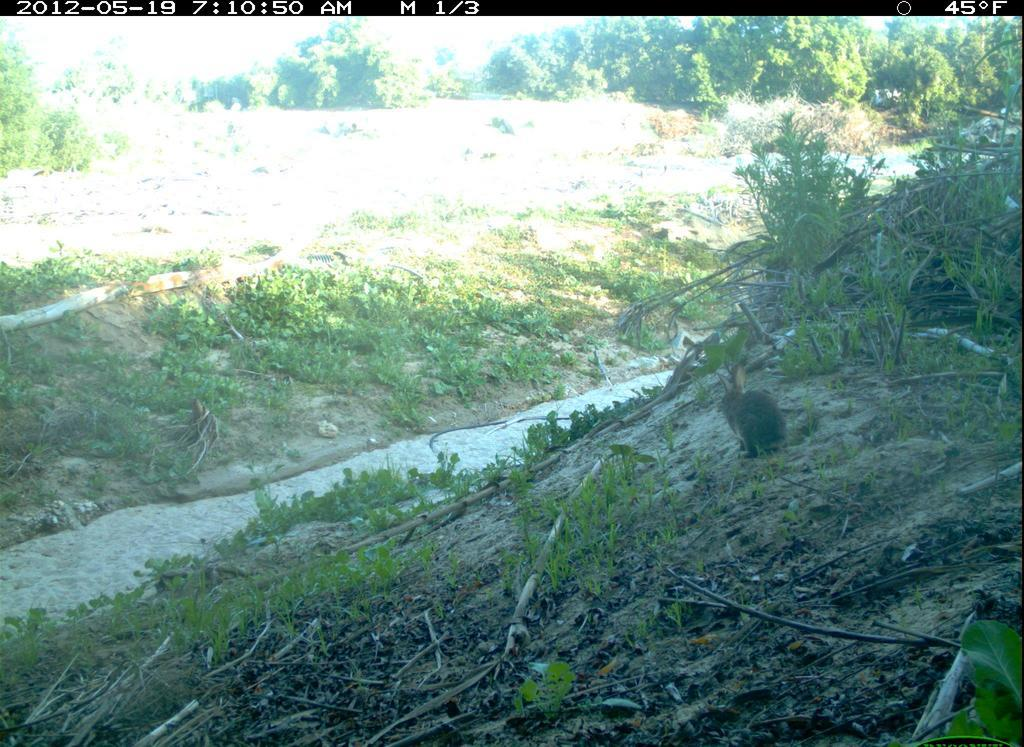rabbit: (708, 354, 801, 459)
